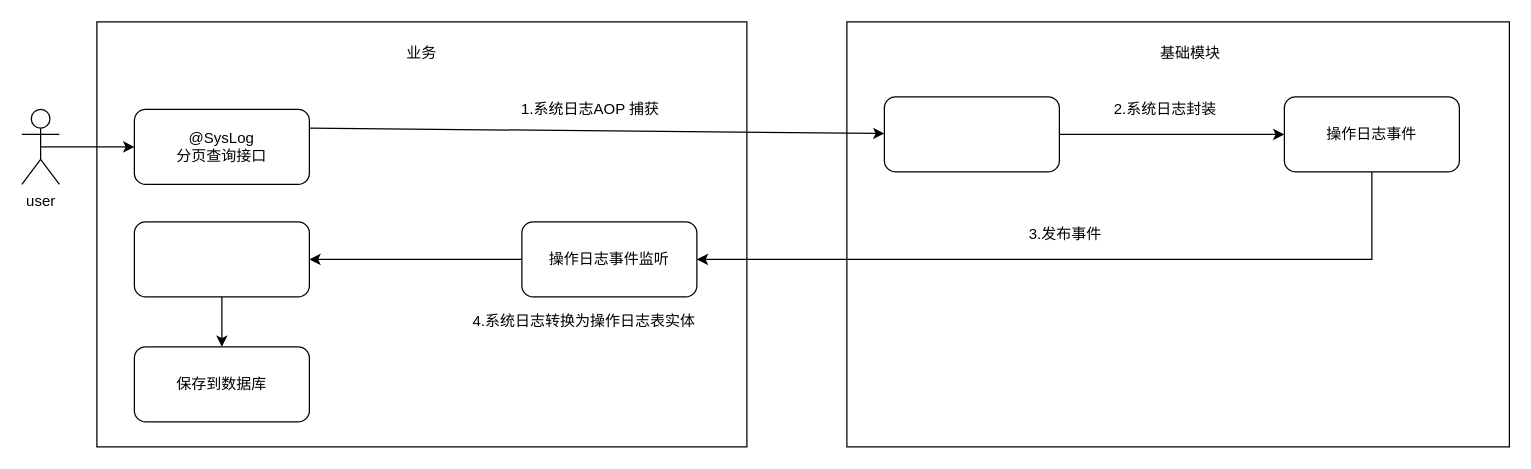
This 1531x469 diagram has some shape labels left out. The centre of each missing label's shape, as x and y in pixels:
"操作日志Service" belongs at (221,259).
"系统日志注解处理器" belongs at (971,134).
